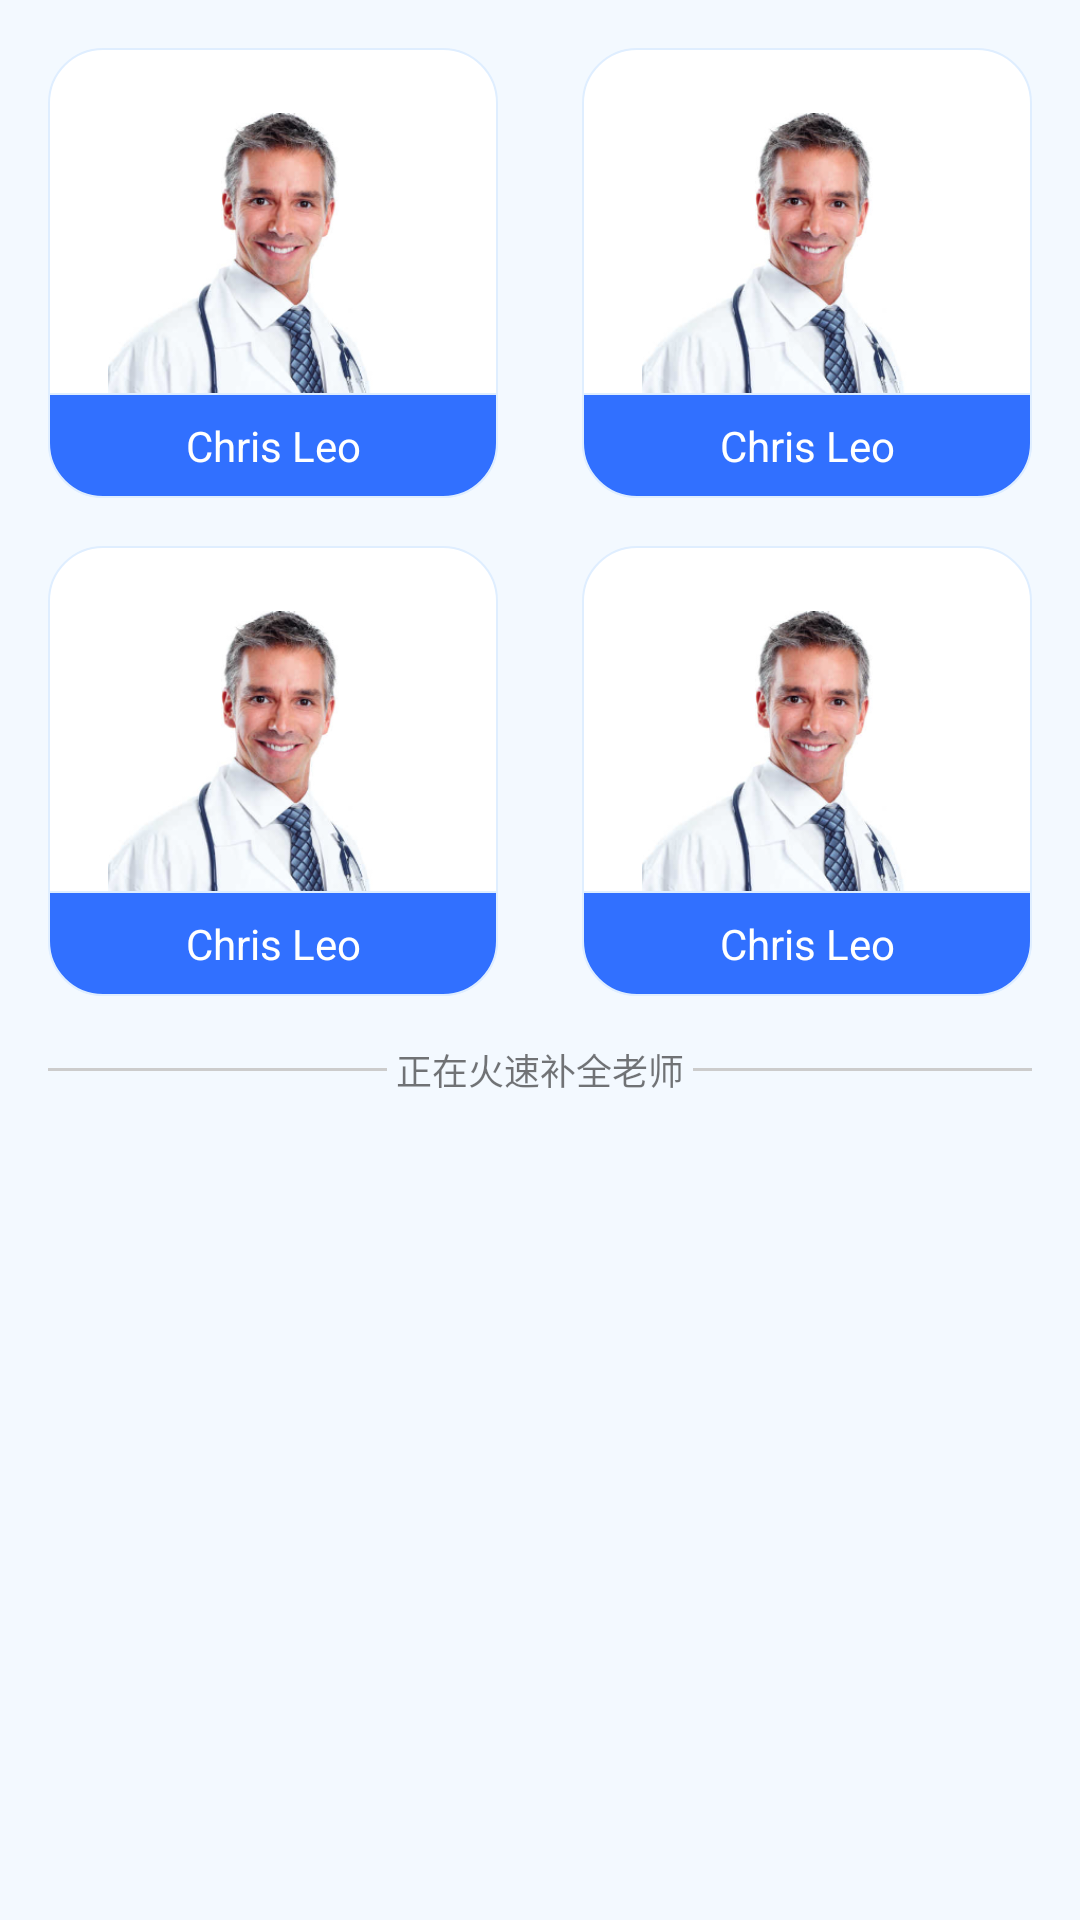

Icon click points for this 1080 x 1920 phone screenshot, format point (x, y):
doctor: point (273, 266), point (807, 266), point (273, 764), point (807, 764)
